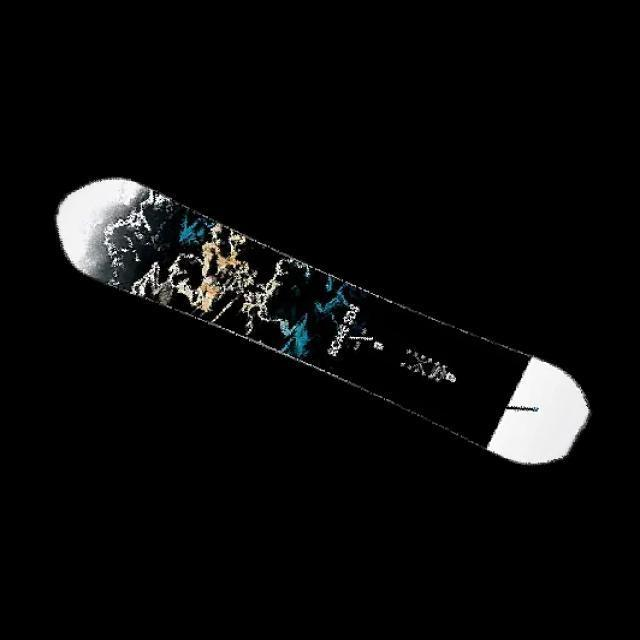Snowboard: (54, 175, 591, 467)
